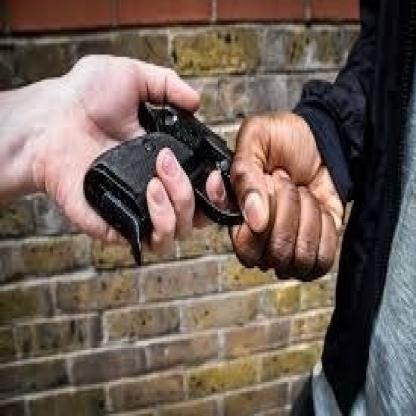Pistol: (70, 52, 260, 309)
